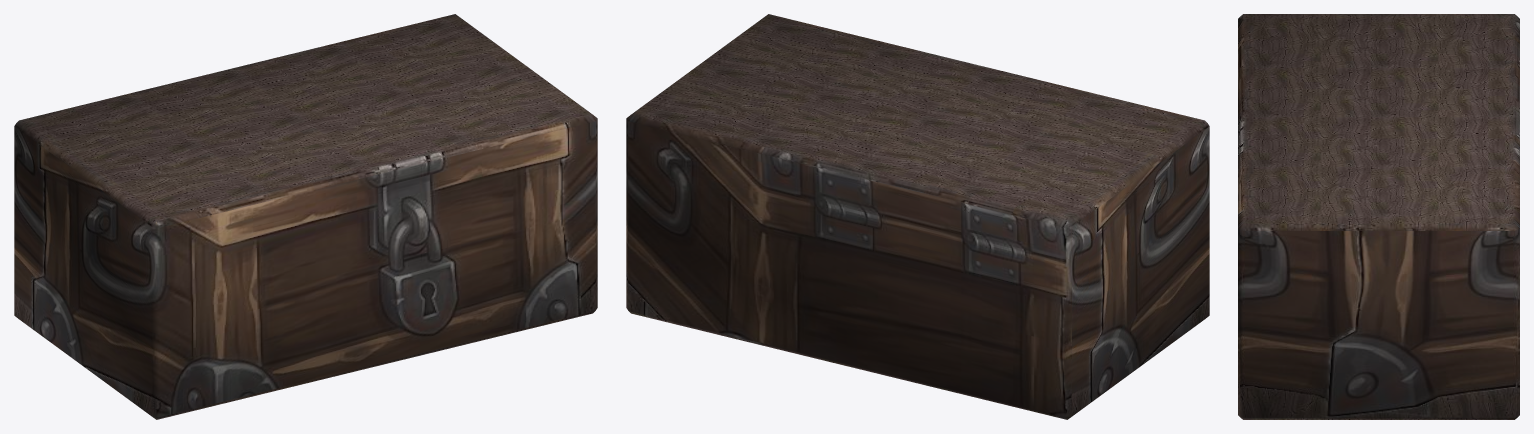
The model's file is chest.glb.
3 views of the same model, side by side, from view 1: azimuth 30°, elevation 25°; view 2: azimuth 150°, elevation 25°; view 3: azimuth 270°, elevation 25° (orthographic).
Parts seen in each view (by area): view 1: chest; view 2: chest; view 3: chest.
Part boxes in pixels (box(x1,y1,x2,y2)): chest: box(14, 14, 597, 419); chest: box(626, 14, 1209, 419); chest: box(1238, 14, 1519, 419).
Bounding box in the file's own units: 1.08 × 0.46 × 0.6.
1 material, 1 textured.
